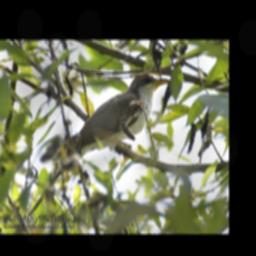Cuckoo: (29, 73, 171, 216)
